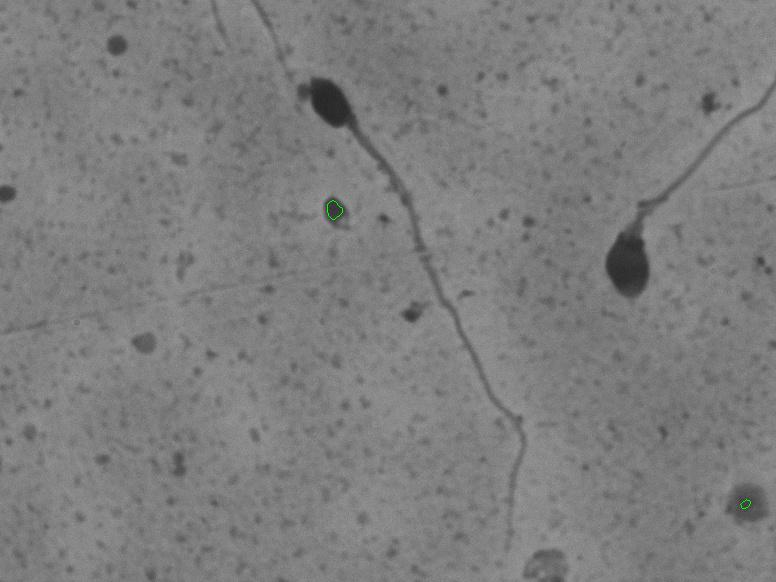Abnormal: (299, 68, 538, 558), (578, 83, 754, 337)
